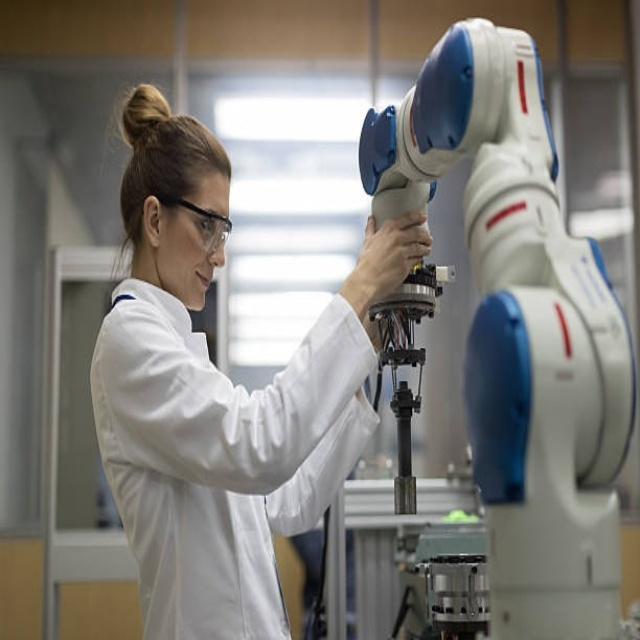Gafas: (159, 196, 233, 255)
Sin_guantes: (352, 210, 434, 322)
Sin_mascara: (185, 262, 218, 309)
